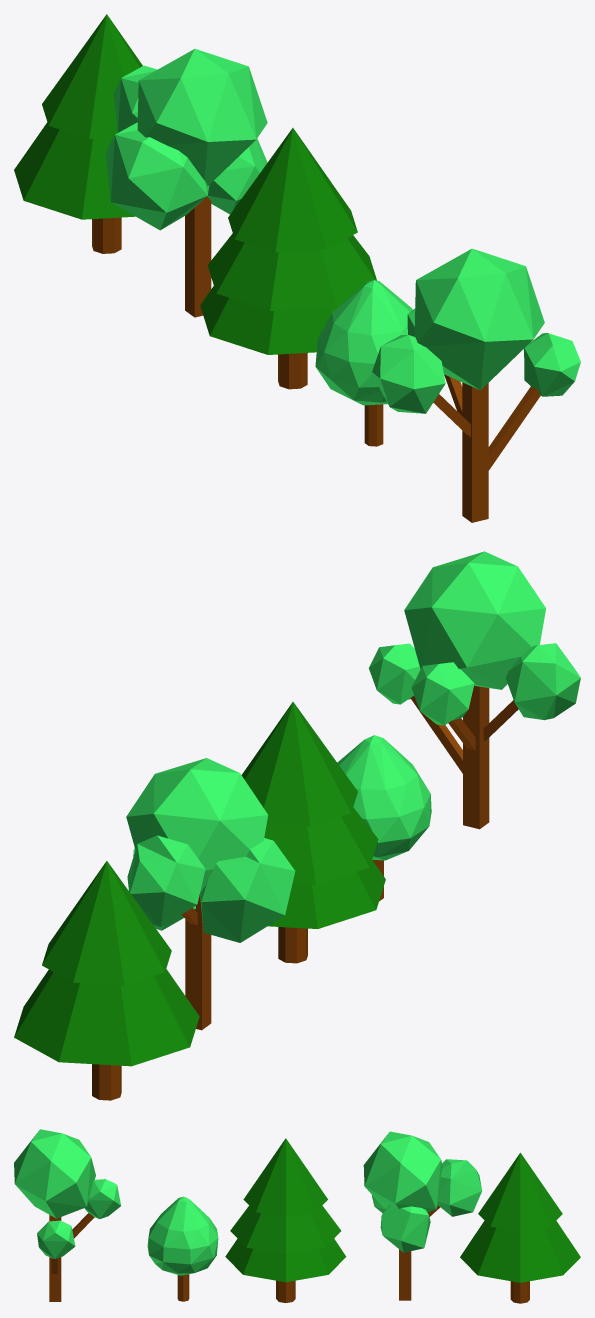
Rendered from tree.obj.
3 views of the same model, one above another, from view 1: azimuth 30°, elevation 25°; view 2: azimuth 150°, elevation 25°; view 3: azimuth 270°, elevation 25° (orthographic). The views are drawn at different scales.
Visible parts, largest first — view 1: ?????_8, ?????_1, ??????2_1, ??????1, ?????_6, ??????, ?????, ??????2, ??????_2, ?????_7, ?????_13, ?????_9 (+7 smaller); view 2: ?????_8, ??????, ?????_1, ??????2, ??????2_1, ?????_6, ?????, ??????1, ?????_3, ??????_2, ?????_7, ?????_13 (+6 smaller); view 3: ?????_8, ??????, ?????_1, ?????_6, ??????2, ??????2_1, ??????1, ??????_2, ?????_3, ?????_2, ?????_9, ?????_10 (+5 smaller).
Boxes of the visible parts, left/top/right/bottom form: ?????_8: left=414, top=248, right=544, bottom=390; ?????_1: left=137, top=49, right=267, bottom=185; ??????2_1: left=228, top=128, right=357, bottom=252; ??????1: left=207, top=233, right=376, bottom=310; ?????_6: left=315, top=280, right=412, bottom=405; ??????: left=14, top=122, right=135, bottom=219; ?????: left=105, top=122, right=209, bottom=230; ??????2: left=42, top=14, right=142, bottom=138; ??????_2: left=200, top=286, right=339, bottom=354; ?????_7: left=372, top=335, right=445, bottom=413; ?????_13: left=462, top=382, right=488, bottom=522; ?????_9: left=524, top=333, right=580, bottom=396; ?????_8: left=404, top=551, right=545, bottom=689; ??????: left=14, top=969, right=199, bottom=1066; ?????_1: left=126, top=758, right=268, bottom=891; ??????2: left=42, top=861, right=171, bottom=985; ??????2_1: left=241, top=702, right=357, bottom=826; ?????_6: left=337, top=735, right=431, bottom=860; ?????: left=200, top=838, right=295, bottom=942; ??????1: left=264, top=807, right=378, bottom=884; ?????_3: left=127, top=835, right=205, bottom=926; ??????_2: left=268, top=860, right=385, bottom=928; ?????_7: left=505, top=643, right=580, bottom=720; ?????_13: left=463, top=685, right=489, bottom=829; ?????_8: left=14, top=1129, right=95, bottom=1218; ??????: left=460, top=1220, right=580, bottom=1282; ?????_1: left=363, top=1131, right=442, bottom=1212; ?????_6: left=147, top=1196, right=218, bottom=1275; ??????2: left=478, top=1152, right=562, bottom=1231; ??????2_1: left=243, top=1138, right=327, bottom=1217; ??????1: left=230, top=1205, right=341, bottom=1254; ??????_2: left=225, top=1238, right=346, bottom=1282; ?????_3: left=437, top=1159, right=481, bottom=1216; ?????_2: left=380, top=1204, right=430, bottom=1252; ?????_9: left=37, top=1220, right=75, bottom=1258; ?????_10: left=84, top=1179, right=120, bottom=1218.
Bounding box in the file's own units: 5.92 × 7.6 × 23.41.
